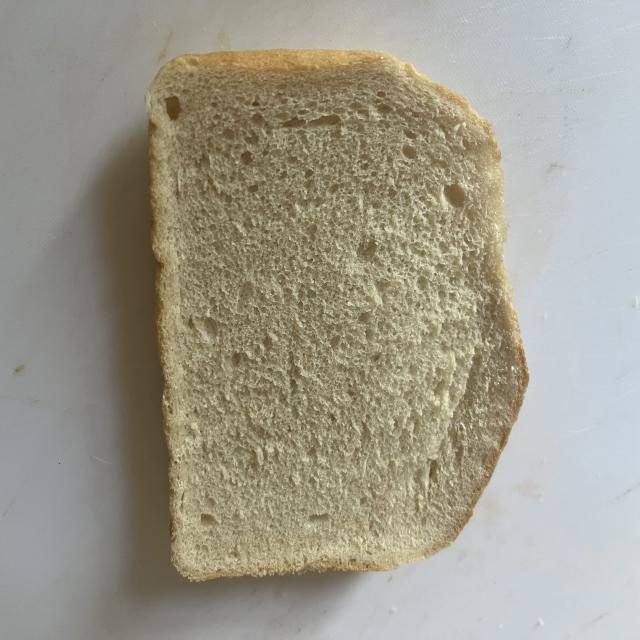sliced_bread: (146, 50, 527, 580)
